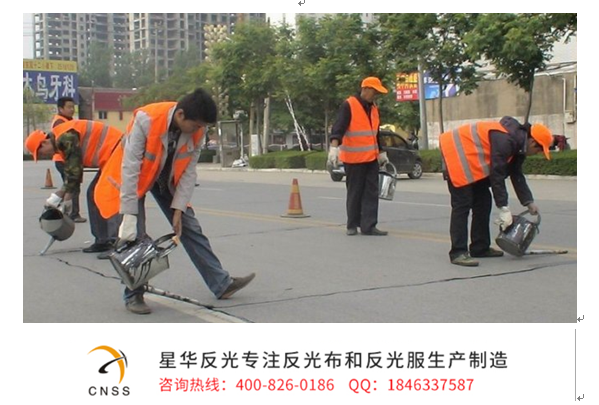head: (173, 88, 219, 136), (524, 121, 554, 160), (24, 127, 55, 163), (359, 75, 389, 103), (55, 95, 77, 119)
person: (91, 89, 258, 316), (436, 114, 558, 270), (24, 118, 127, 260), (328, 75, 390, 238)
reflective_vest: (91, 100, 206, 221), (436, 120, 518, 190), (51, 118, 125, 171), (336, 96, 381, 165)
